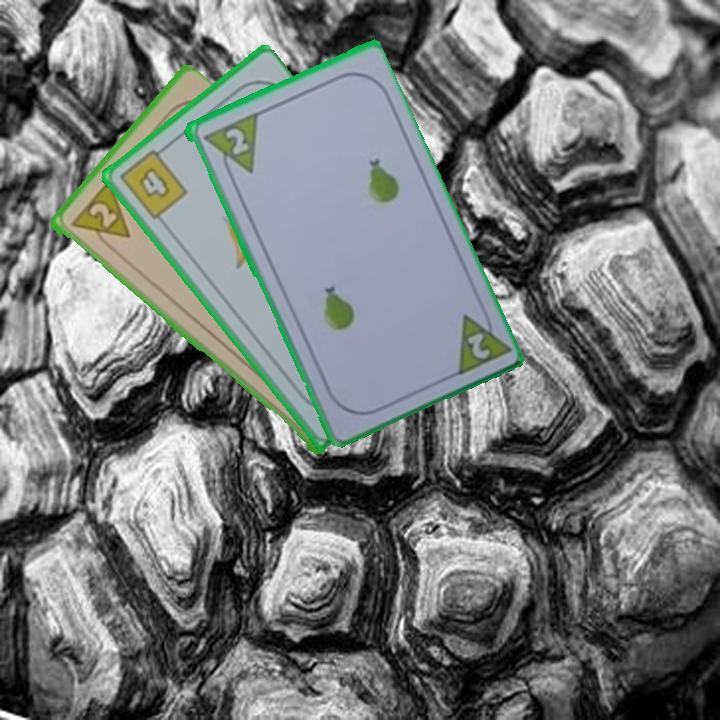2p: (66, 178, 133, 254), (449, 301, 511, 379), (198, 109, 260, 184)
4b: (115, 142, 191, 223)
